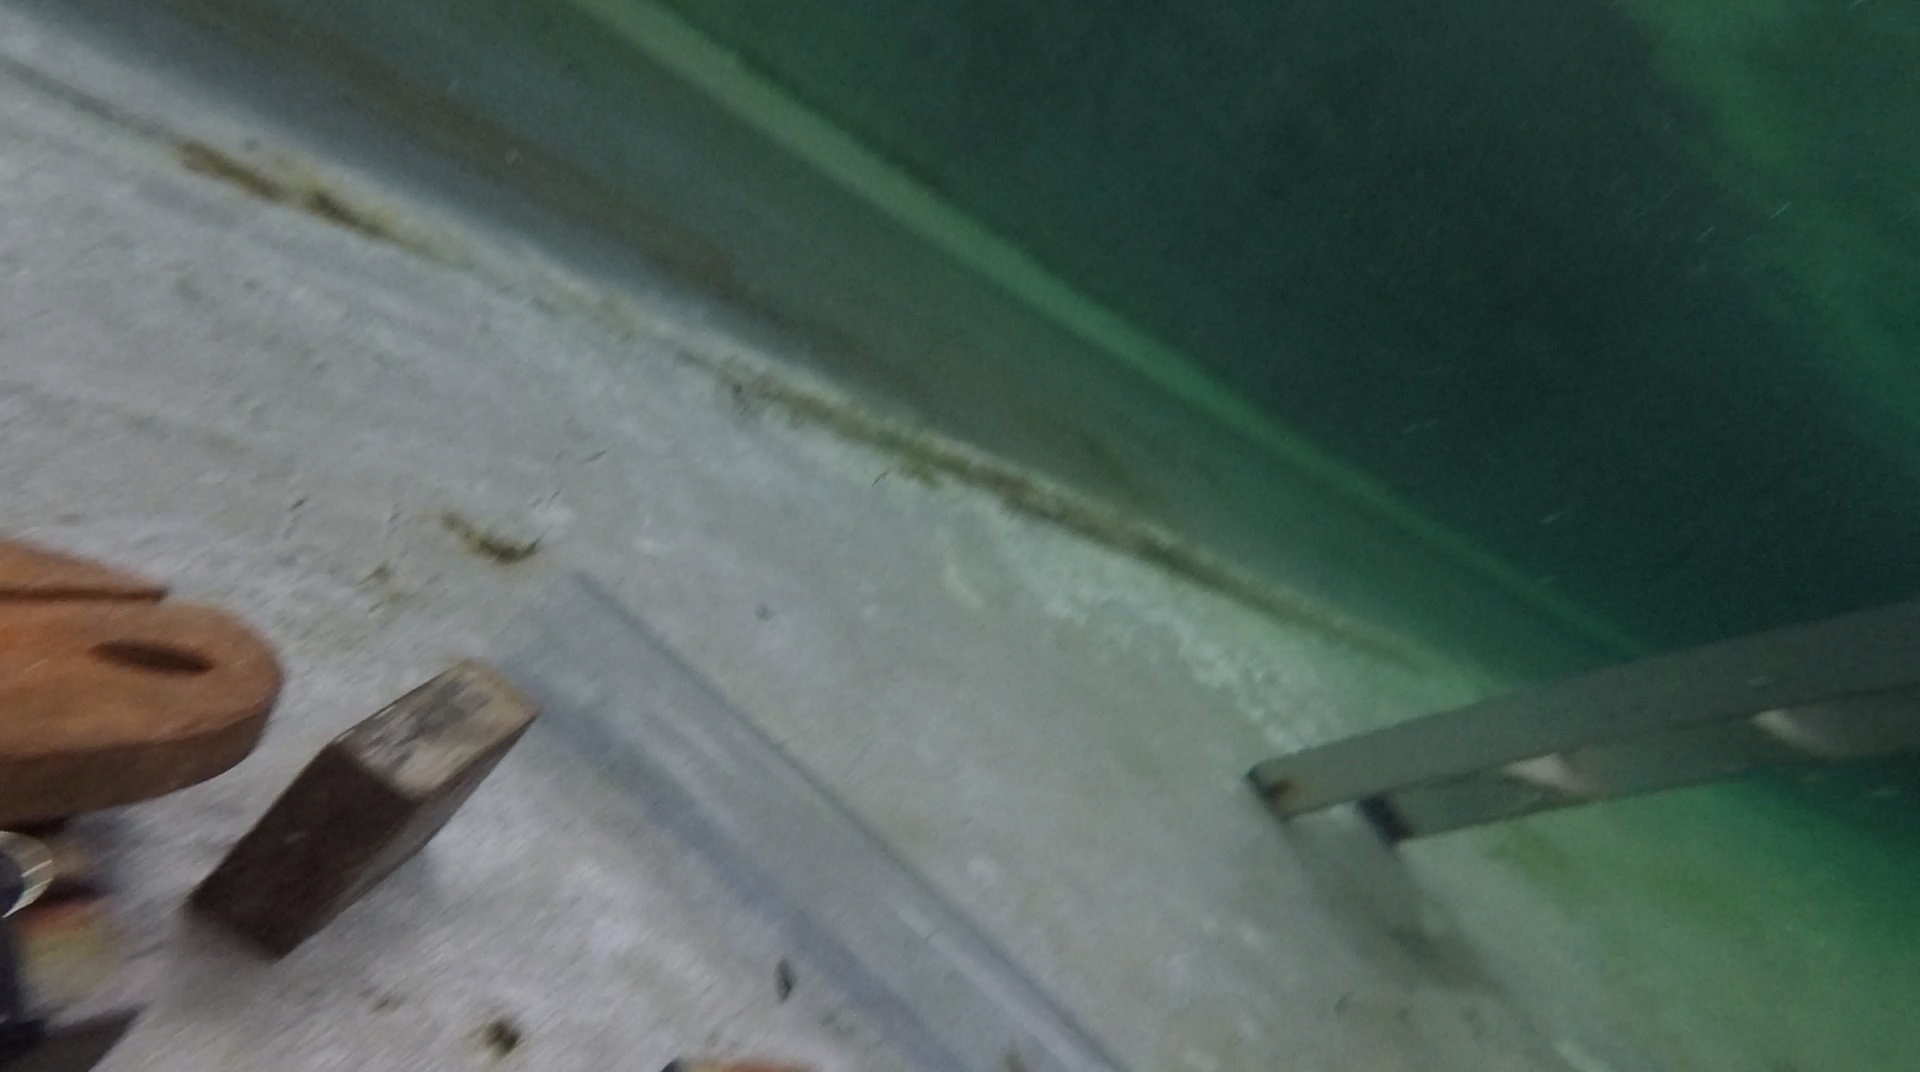flange: (1, 533, 284, 827)
led_block: (185, 651, 543, 961), (1, 814, 148, 1071)
pipe: (484, 574, 1142, 1072)
